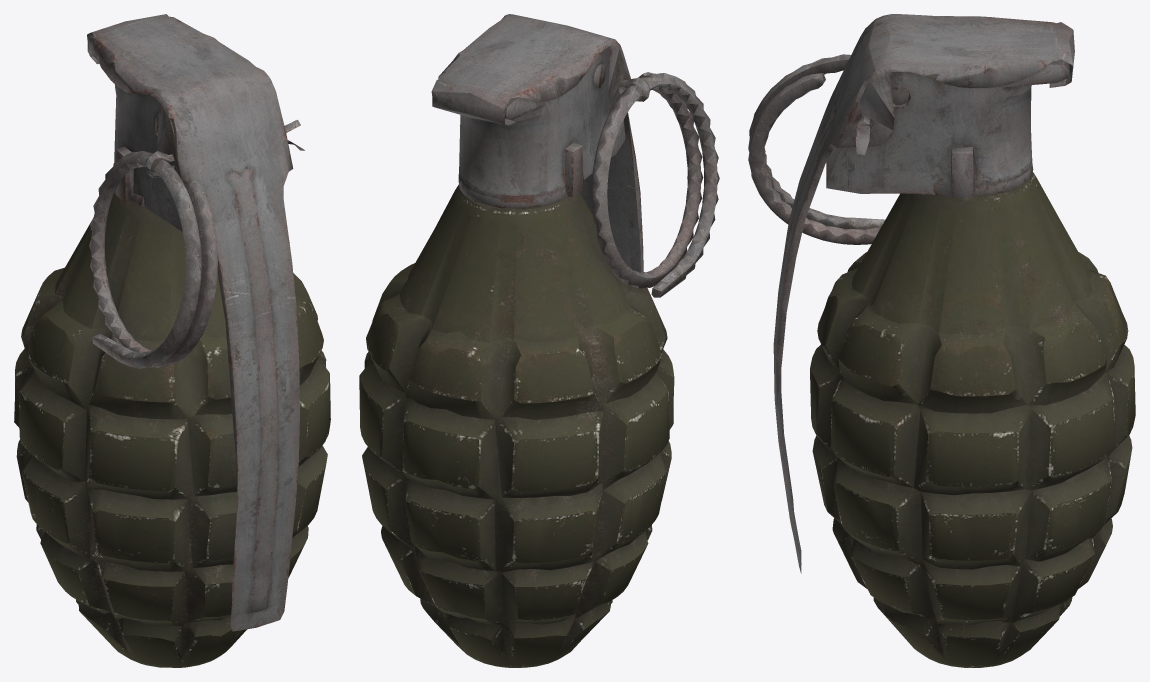
The picture shows the model from 3 angles, left to right: view 1: azimuth 30°, elevation 25°; view 2: azimuth 150°, elevation 25°; view 3: azimuth 270°, elevation 25°; orthographic projection. The views are drawn at different scales.
Visible parts, largest first — view 1: GrenadeBody_low; view 2: GrenadeBody_low; view 3: GrenadeBody_low.
Part boxes in pixels (box(x1,y1,x2,y2)): GrenadeBody_low: box(14, 14, 330, 667); GrenadeBody_low: box(359, 14, 719, 667); GrenadeBody_low: box(748, 14, 1135, 667).
Size of the model in its own units: 2.1 by 4.38 by 2.52.
Materials: 1 (1 with a texture image).
